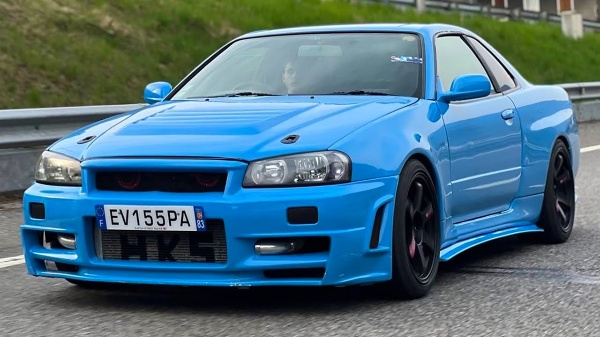licence: (94, 201, 211, 234)
